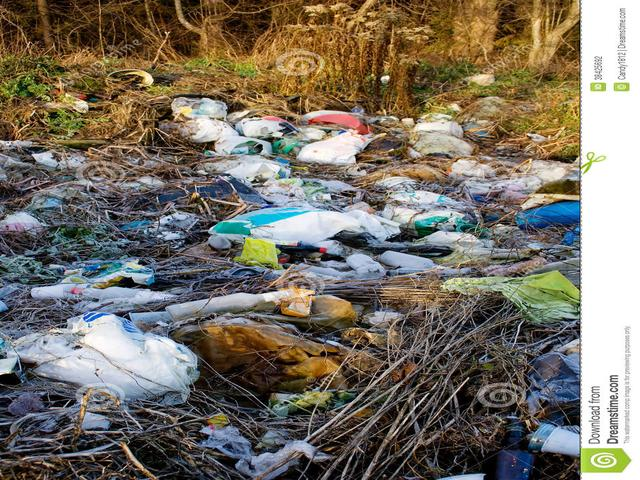garbage: (20, 189, 290, 440), (185, 119, 464, 262)
